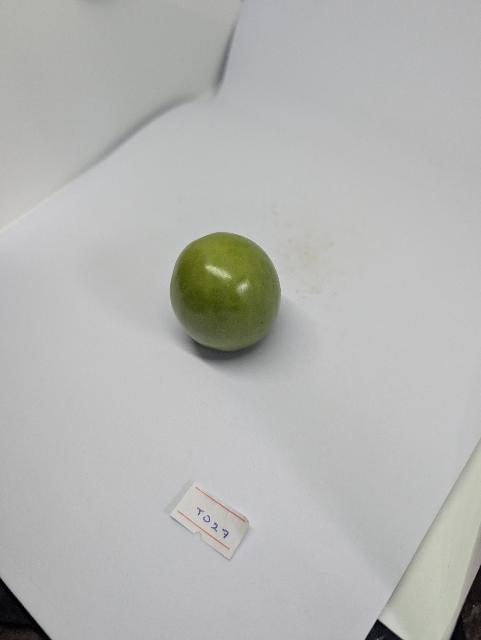green: (169, 231, 283, 354)
